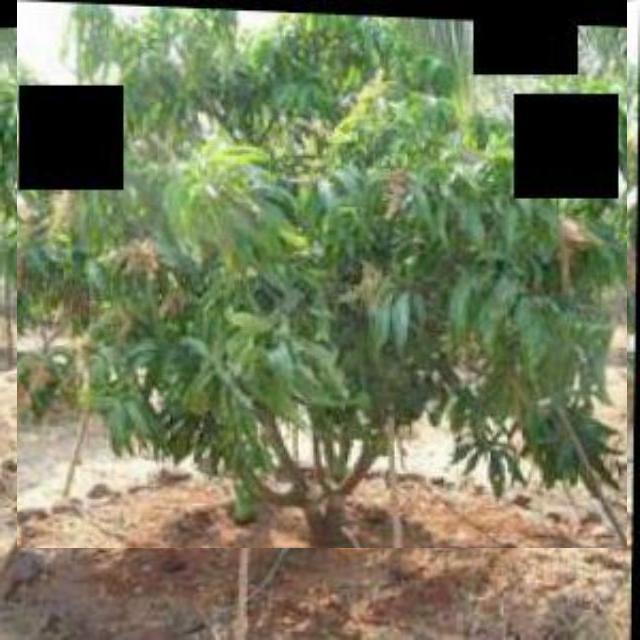tree: (17, 0, 627, 548)
